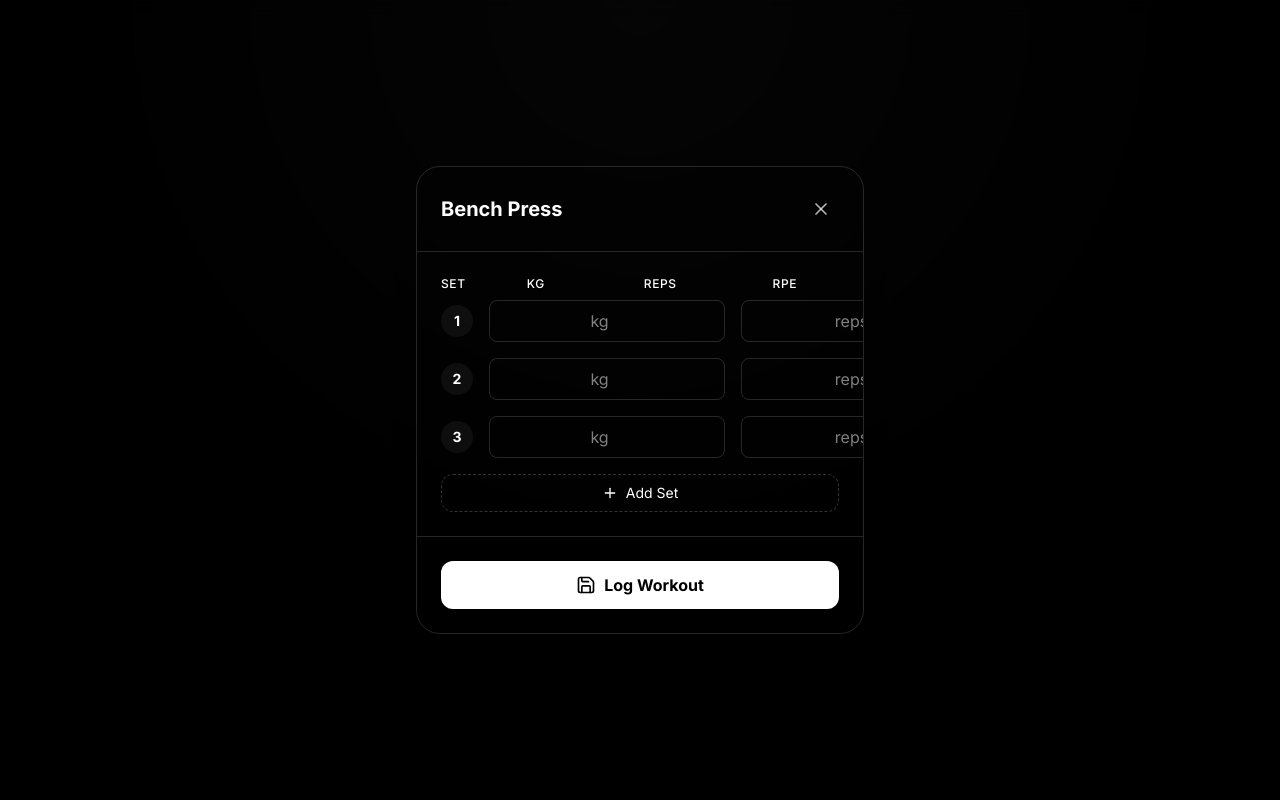
Test: WorkoutLogger › allows adding a set
Click the button "Add Set": (640, 493) [441,474,839,512]
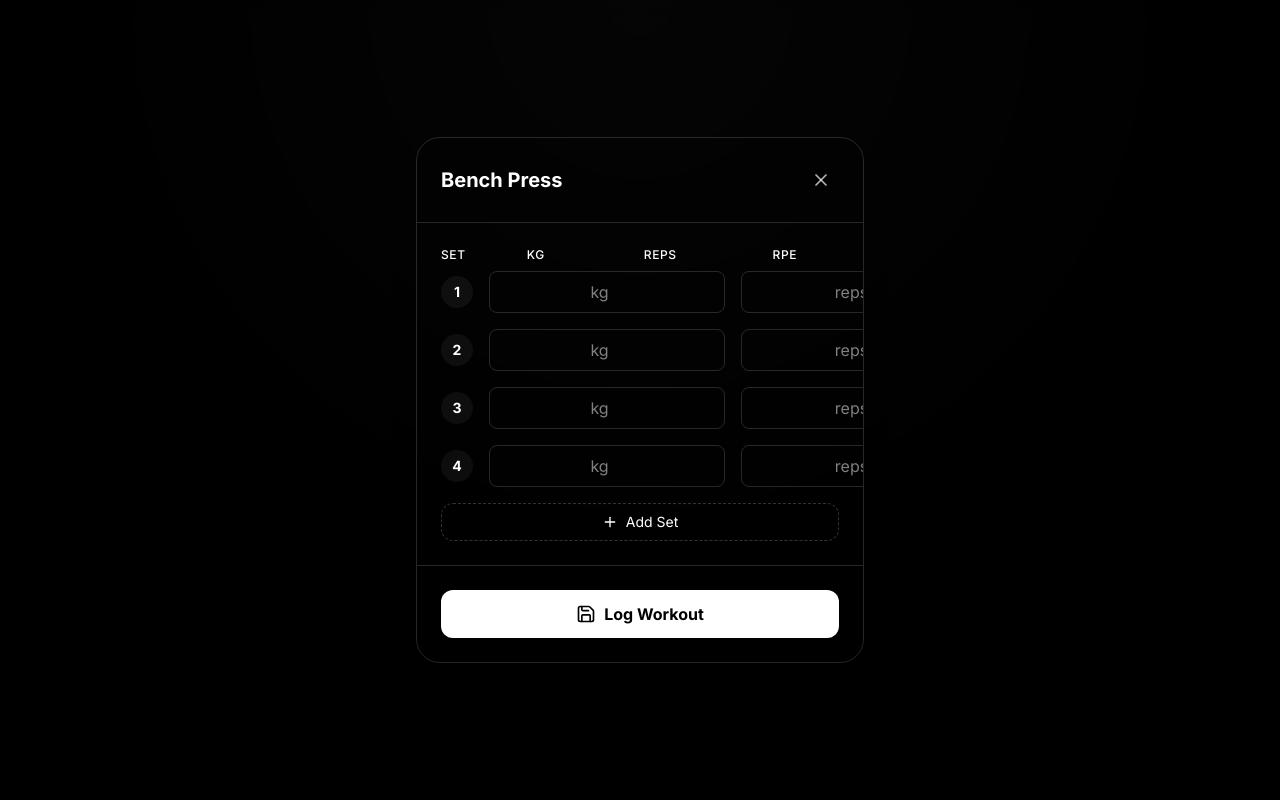
Now the number of number fields with placeholder "kg" is 4, box [489,271,725,313]; [489,329,725,371]; [489,387,725,429]; [489,445,725,487]
